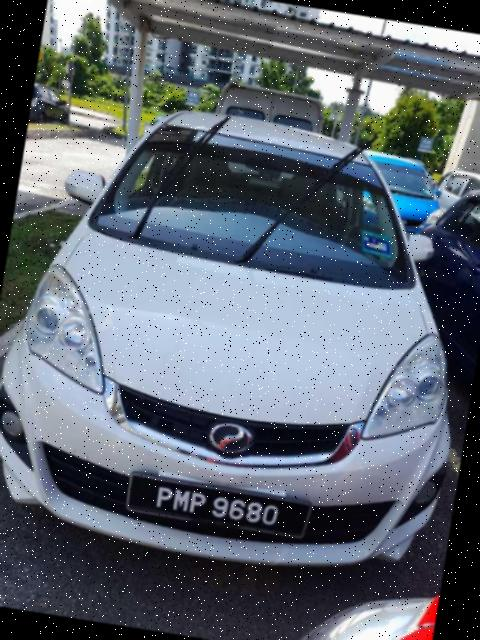License_Plate: (125, 470, 315, 542)
car: (1, 85, 480, 595)
